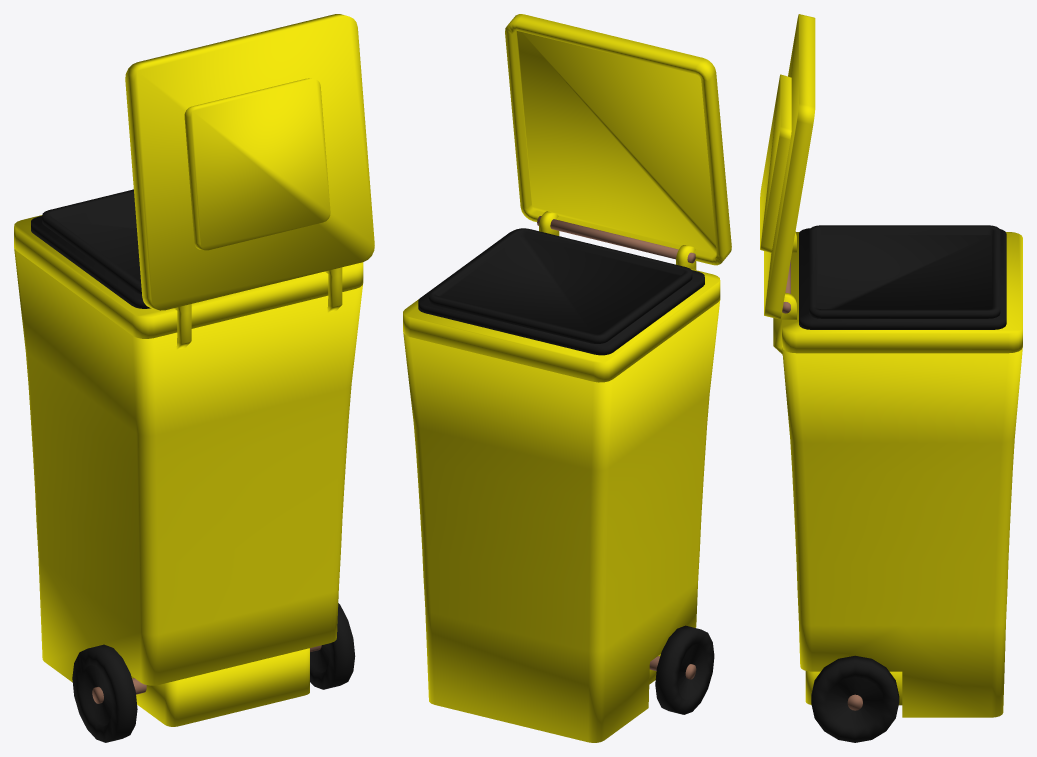
The model's file is smietnikpla.glb.
3 views of the same model, side by side, from view 1: azimuth 30°, elevation 25°; view 2: azimuth 150°, elevation 25°; view 3: azimuth 270°, elevation 25° (orthographic). The views are drawn at different scales.
Visible parts, largest first — view 1: Cube.029 -col.001; view 2: Cube.029 -col.001; view 3: Cube.029 -col.001.
Part boxes in pixels (box(x1,y1,x2,y2)): Cube.029 -col.001: box(14, 14, 374, 742); Cube.029 -col.001: box(403, 14, 731, 742); Cube.029 -col.001: box(760, 14, 1022, 742).
Bounding box in the file's own units: 2.64 × 7.41 × 2.79.
